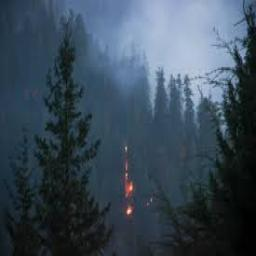Low smoke: (71, 0, 170, 153)
Small fire: (108, 128, 152, 230)
